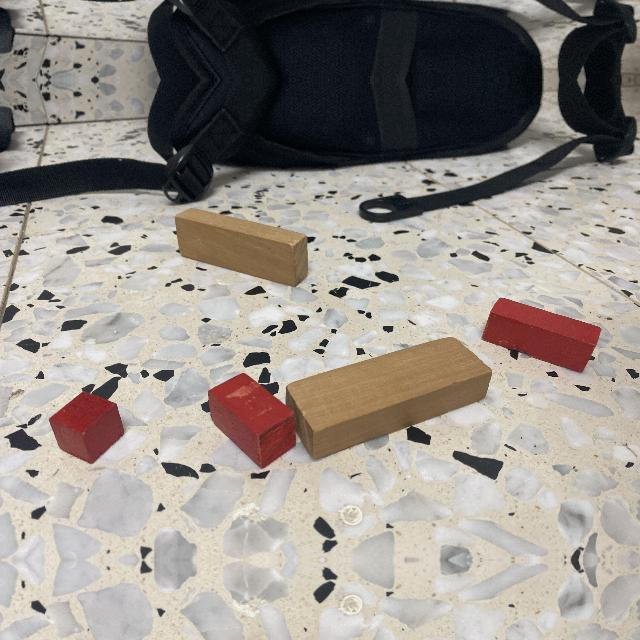jenga: (285, 336, 493, 459), (174, 210, 309, 289)
red block: (481, 297, 603, 372), (205, 374, 297, 470)
red cube: (49, 392, 124, 464)
